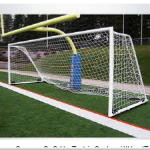goals: (8, 26, 149, 117)
